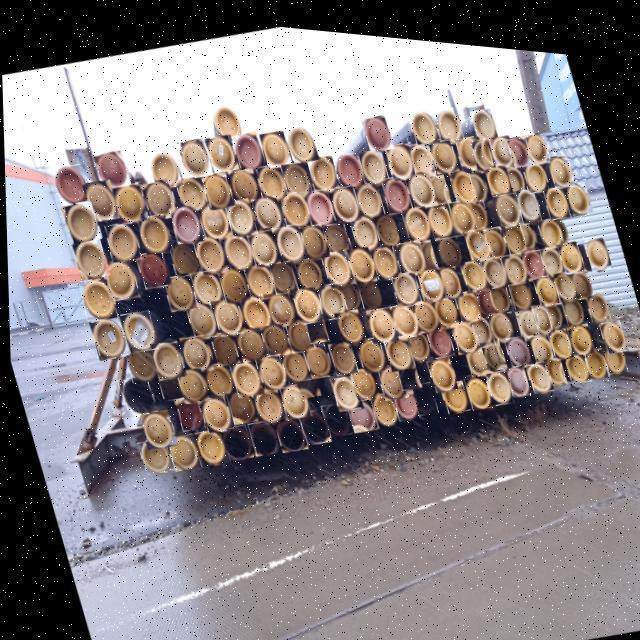pipe: (87, 314, 128, 358), (60, 199, 101, 243), (117, 307, 157, 350), (116, 372, 155, 414), (139, 176, 178, 217), (100, 256, 138, 298), (77, 277, 115, 319), (50, 163, 88, 204), (81, 178, 118, 220), (91, 148, 130, 187), (70, 237, 108, 277), (135, 211, 172, 252), (134, 433, 172, 472), (111, 180, 147, 221), (138, 406, 174, 446), (191, 231, 227, 271), (104, 220, 140, 260), (230, 126, 266, 165), (196, 197, 232, 236), (168, 201, 203, 241), (195, 391, 231, 429), (148, 338, 184, 376), (283, 118, 318, 157), (272, 218, 307, 257), (209, 293, 244, 332), (219, 227, 254, 266), (188, 265, 223, 304), (134, 247, 169, 286), (238, 290, 272, 330), (271, 409, 306, 447), (203, 130, 238, 168), (245, 224, 279, 263), (200, 167, 234, 206), (183, 297, 217, 336), (164, 430, 199, 467), (250, 382, 284, 420), (320, 243, 354, 281), (253, 348, 287, 386), (215, 262, 249, 300), (178, 331, 212, 369), (223, 193, 256, 232), (227, 356, 262, 392), (295, 402, 329, 439), (244, 414, 278, 451), (218, 419, 252, 456), (367, 236, 401, 273), (407, 101, 440, 139), (328, 178, 361, 216), (210, 100, 243, 138), (250, 190, 283, 228), (175, 172, 208, 210), (192, 425, 226, 461), (400, 198, 433, 235), (353, 329, 386, 366), (227, 163, 260, 200), (201, 357, 234, 394), (177, 136, 210, 173), (148, 149, 181, 186), (123, 343, 156, 380), (303, 182, 335, 220), (243, 257, 275, 295), (223, 384, 256, 420), (263, 286, 296, 322), (162, 271, 195, 307), (448, 159, 480, 196), (423, 192, 455, 229), (405, 163, 437, 200), (357, 142, 389, 179), (333, 145, 365, 182), (306, 149, 338, 186), (395, 231, 427, 268), (387, 294, 419, 331), (280, 156, 312, 193), (254, 159, 286, 196), (167, 239, 199, 276), (349, 207, 380, 245), (345, 239, 376, 277), (174, 364, 207, 399), (462, 218, 494, 254), (276, 377, 308, 413), (328, 368, 360, 404), (365, 299, 397, 335), (384, 135, 415, 172), (259, 125, 290, 162), (353, 175, 384, 212), (381, 168, 412, 205), (316, 277, 347, 314), (291, 281, 322, 318), (279, 186, 310, 223), (233, 323, 266, 357), (344, 391, 376, 426), (333, 303, 365, 338), (300, 337, 332, 372), (277, 342, 309, 377), (367, 384, 398, 420), (425, 348, 456, 384), (382, 327, 413, 363), (293, 250, 324, 286), (320, 215, 352, 249), (319, 395, 350, 430), (448, 310, 479, 345), (434, 100, 464, 136), (362, 108, 392, 144), (390, 263, 420, 299), (299, 217, 329, 253), (452, 280, 483, 314), (258, 317, 289, 351), (428, 130, 458, 165), (447, 191, 477, 226), (415, 259, 445, 294), (409, 290, 439, 325), (437, 371, 468, 404), (455, 127, 485, 161), (492, 182, 522, 216), (458, 250, 488, 284), (283, 313, 313, 347), (376, 357, 405, 392), (268, 255, 297, 290), (407, 134, 435, 170), (348, 360, 378, 393), (479, 246, 508, 280), (582, 225, 611, 259), (327, 334, 356, 368), (208, 327, 237, 361), (462, 366, 490, 401), (514, 297, 543, 330), (502, 325, 531, 358), (597, 308, 626, 341), (434, 226, 463, 259), (470, 98, 498, 132), (500, 242, 528, 276), (484, 361, 512, 395), (372, 206, 400, 240), (435, 255, 462, 290), (483, 155, 512, 187), (462, 335, 491, 367), (488, 125, 516, 158), (531, 263, 559, 296), (501, 354, 529, 387), (556, 230, 584, 263), (408, 373, 436, 406), (174, 394, 202, 427), (425, 317, 453, 350), (430, 286, 458, 319), (402, 321, 430, 354), (514, 179, 541, 213), (547, 143, 574, 177), (501, 214, 529, 246), (524, 350, 552, 382), (542, 175, 569, 208), (564, 170, 591, 203), (522, 150, 549, 183), (390, 380, 417, 413), (482, 216, 508, 250), (527, 322, 554, 354), (562, 340, 589, 372), (538, 235, 565, 267), (546, 316, 572, 349), (565, 313, 593, 343), (354, 271, 382, 301), (519, 239, 546, 270), (478, 330, 505, 361), (155, 368, 182, 398), (486, 301, 512, 332), (537, 207, 563, 238), (471, 128, 494, 163), (465, 190, 490, 222), (291, 362, 318, 391), (582, 336, 607, 367), (568, 257, 593, 288), (524, 122, 549, 153), (468, 306, 493, 337), (426, 166, 450, 198), (486, 275, 512, 304), (584, 280, 609, 310), (506, 126, 530, 157), (530, 293, 554, 323), (468, 161, 489, 195), (559, 286, 584, 314), (394, 354, 419, 382), (551, 260, 574, 290), (507, 271, 531, 299), (541, 346, 564, 375), (602, 335, 626, 362), (503, 155, 526, 183), (338, 276, 361, 304), (473, 278, 495, 306), (416, 232, 436, 262), (304, 312, 327, 337), (543, 291, 562, 318), (519, 213, 536, 238), (122, 168, 130, 178), (134, 179, 141, 188)
